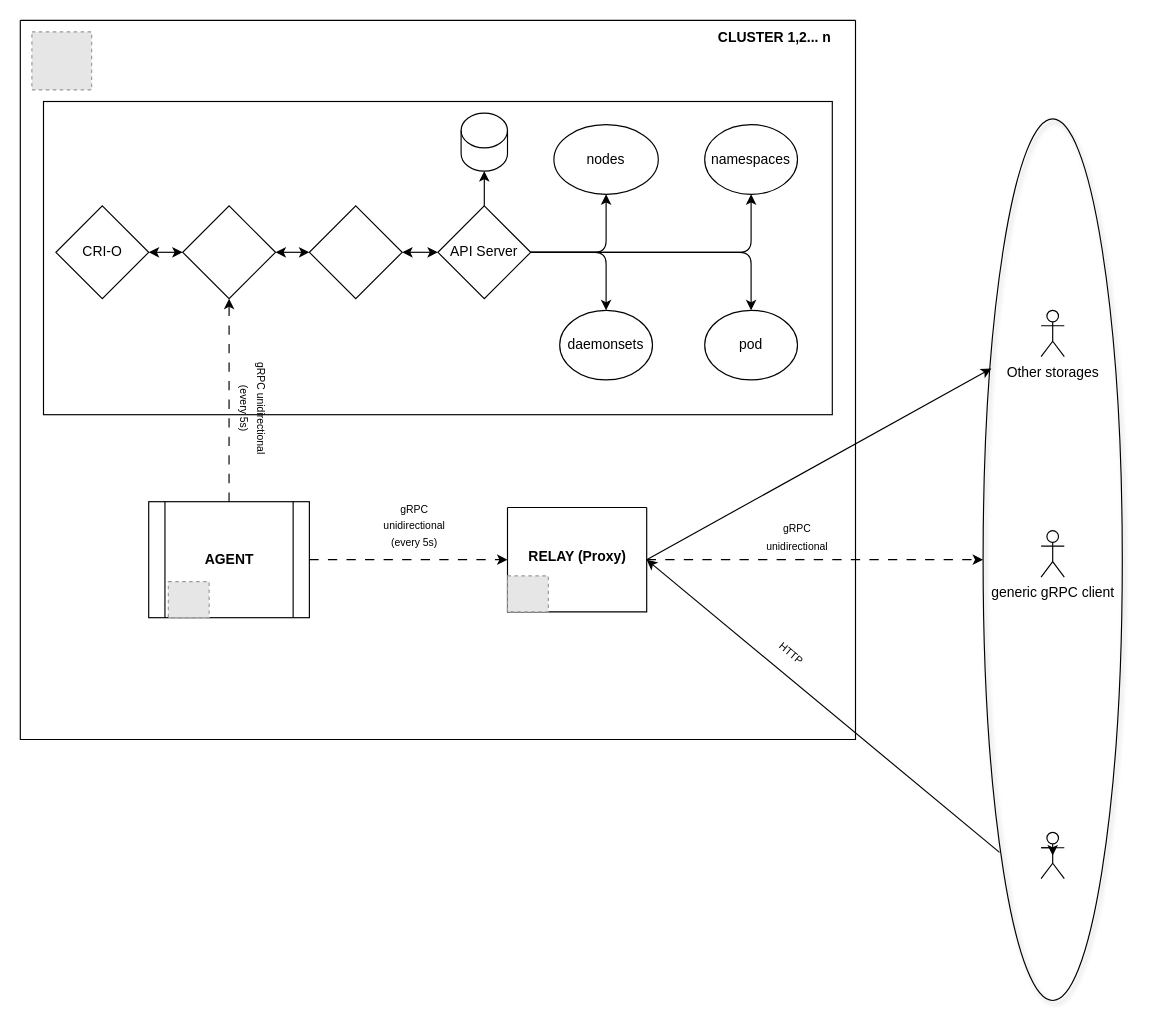
This 1150x1029 diagram has some shape labels left out. Grey dashed boxes stand in for pictures. Each missing label, with the centre of its shape:
"CRI socket" goes at point 229,252.
"etcd" goes at point 483,141.
"Kubelet" goes at point 355,252.
"Prometheus" goes at point 1052,855.
